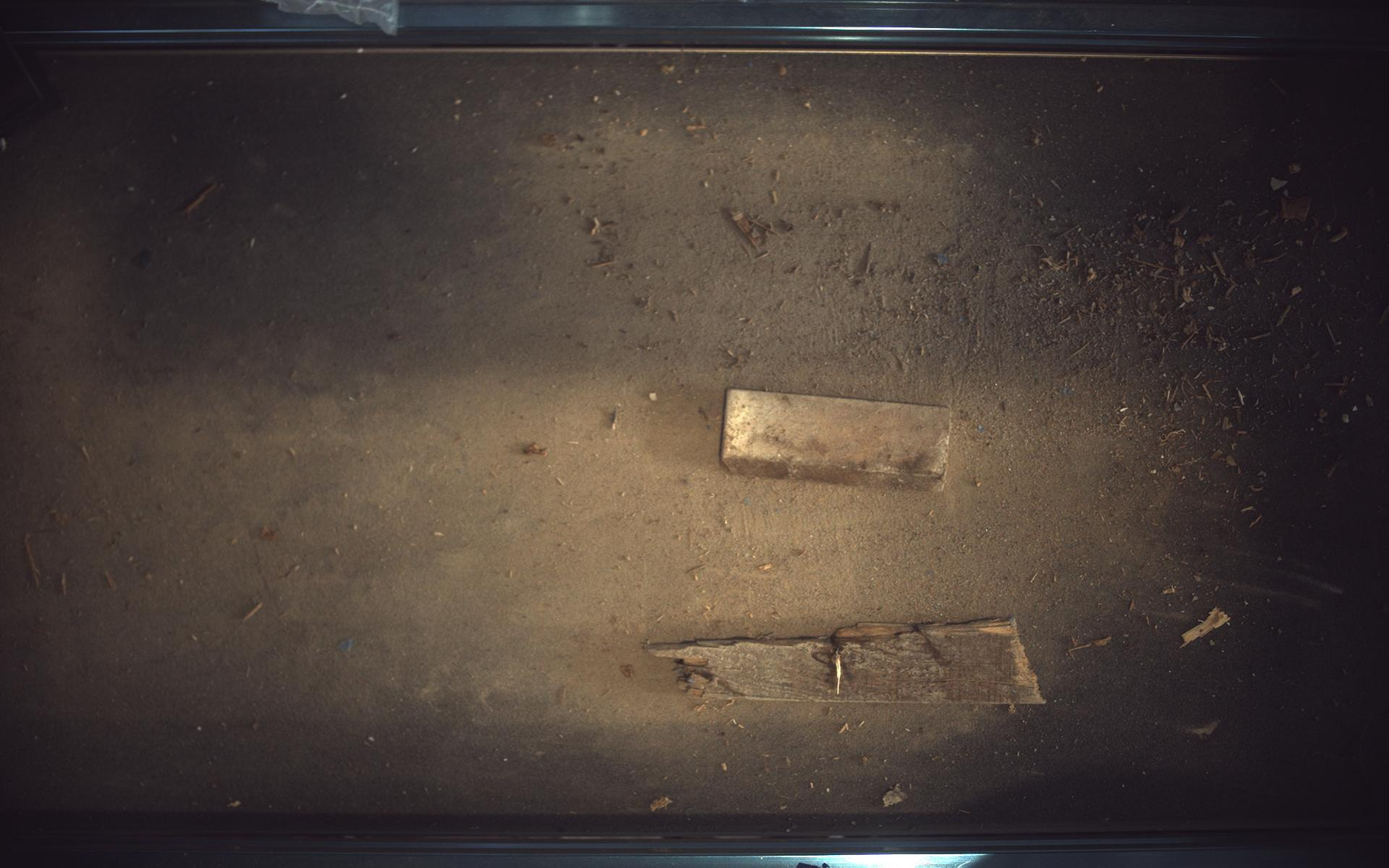wood: (646, 618, 1048, 706), (722, 388, 953, 491)
